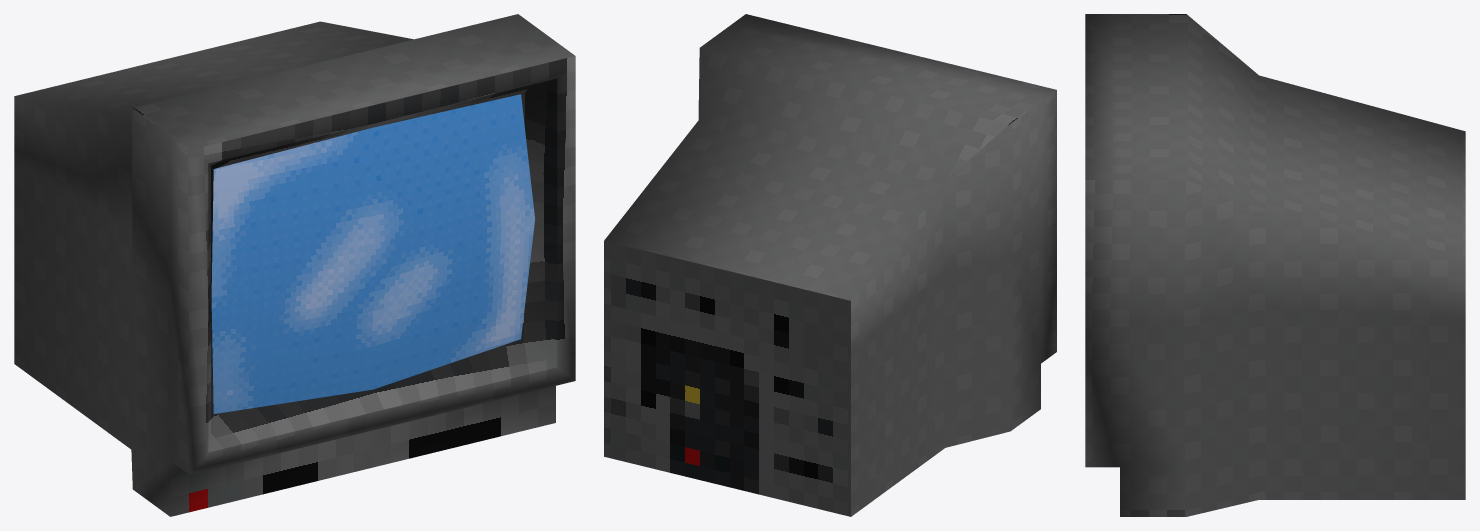
Rendered from TV-TEXTURED-TALVEZ.fbx.
3 renders of one model, left to right at view 1: azimuth 30°, elevation 25°; view 2: azimuth 150°, elevation 25°; view 3: azimuth 270°, elevation 25°, orthographic. The views are drawn at different scales.
Visible parts, largest first — view 1: Body, Screen; view 2: Body; view 3: Body.
Boxes of the visible parts, x1,y1,x2,y2 form: Body: [14, 14, 575, 516]; Screen: [211, 94, 534, 413]; Body: [604, 14, 1056, 516]; Body: [1085, 14, 1465, 516].
Bounding box in the file's own units: 149 × 141 × 144.
2 materials, 2 textured.
